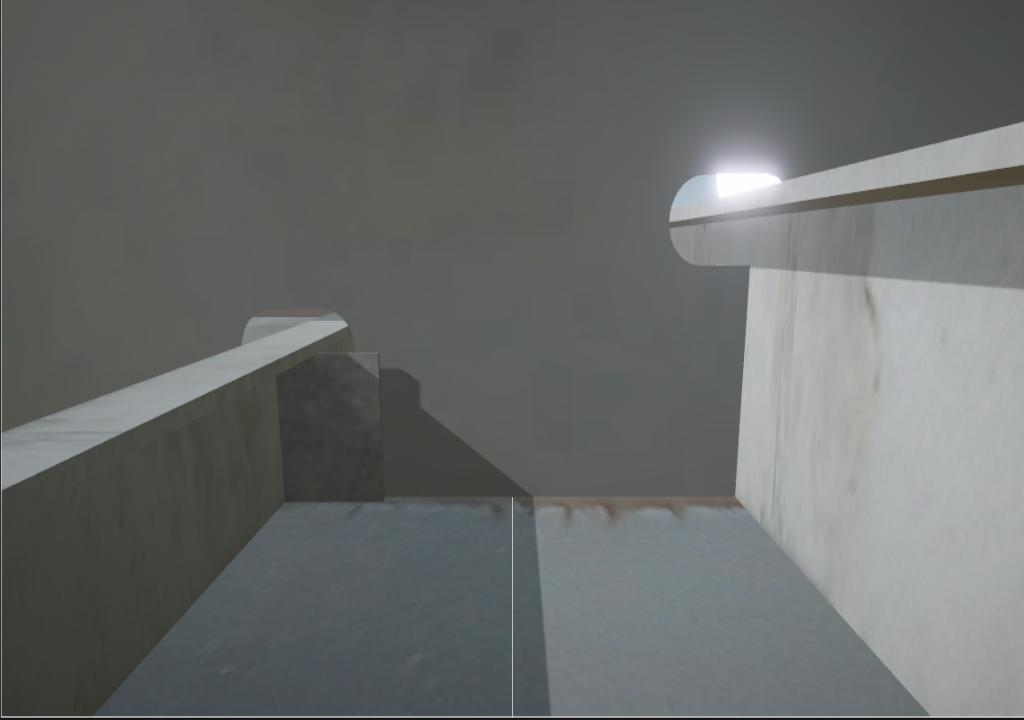fillet_yong_jeop_jang: (384, 493, 736, 500)
longi_yong_jeop_jang: (732, 265, 752, 499)
plate_CP01: (278, 352, 384, 502)
